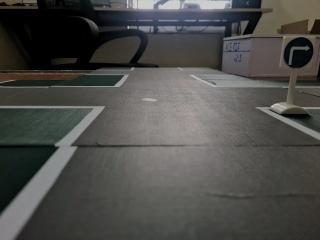right: (277, 29, 317, 76)
